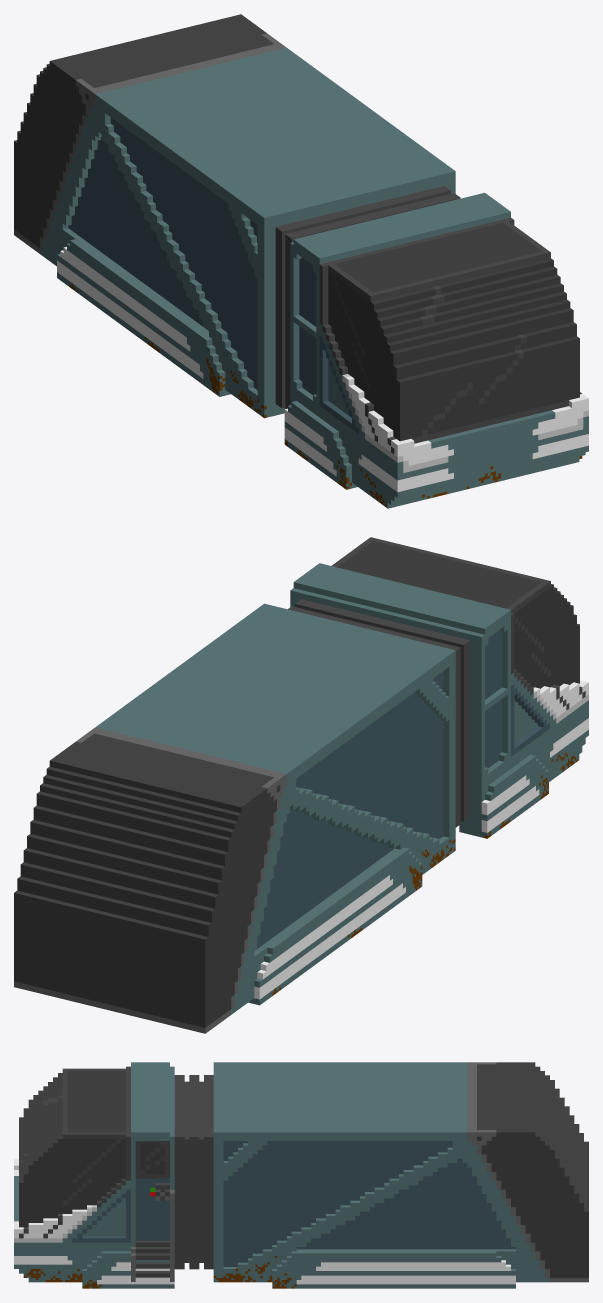
The model's file is OrangeGarbagetruck-1.obj.
The picture shows the model from 3 angles, top to bottom: view 1: azimuth 30°, elevation 25°; view 2: azimuth 150°, elevation 25°; view 3: azimuth 270°, elevation 25°; orthographic projection. The views are drawn at different scales.
Bounding box in the file's own units: 7.4 × 7 × 23.6.
Materials: 1 (1 with a texture image).
